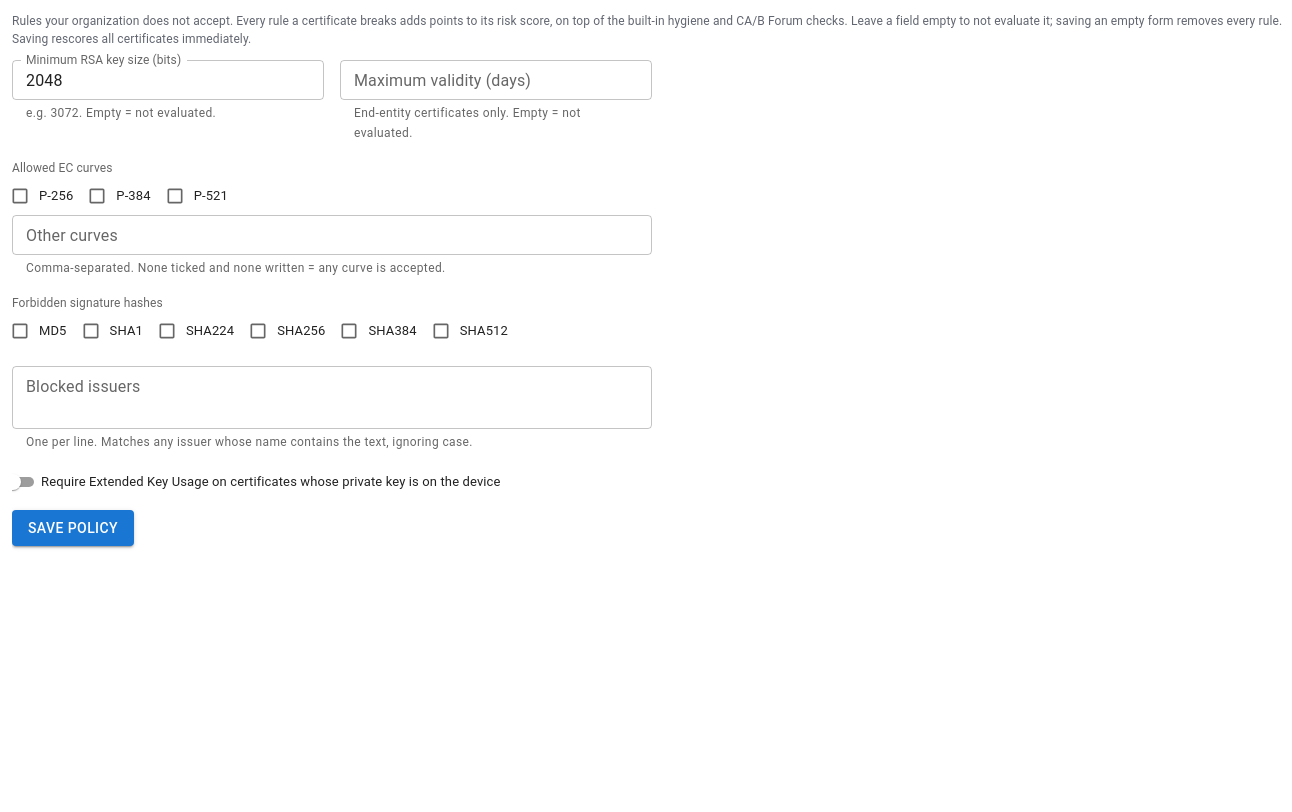
Test case: CdpCryptoPolicyEditor › ⭐ el formulario vacío se guarda como «sin reglas»: {}
Clear the field labelled "Minimum RSA key size (bits)". click: point(168, 80)
box: [12,60,324,100]
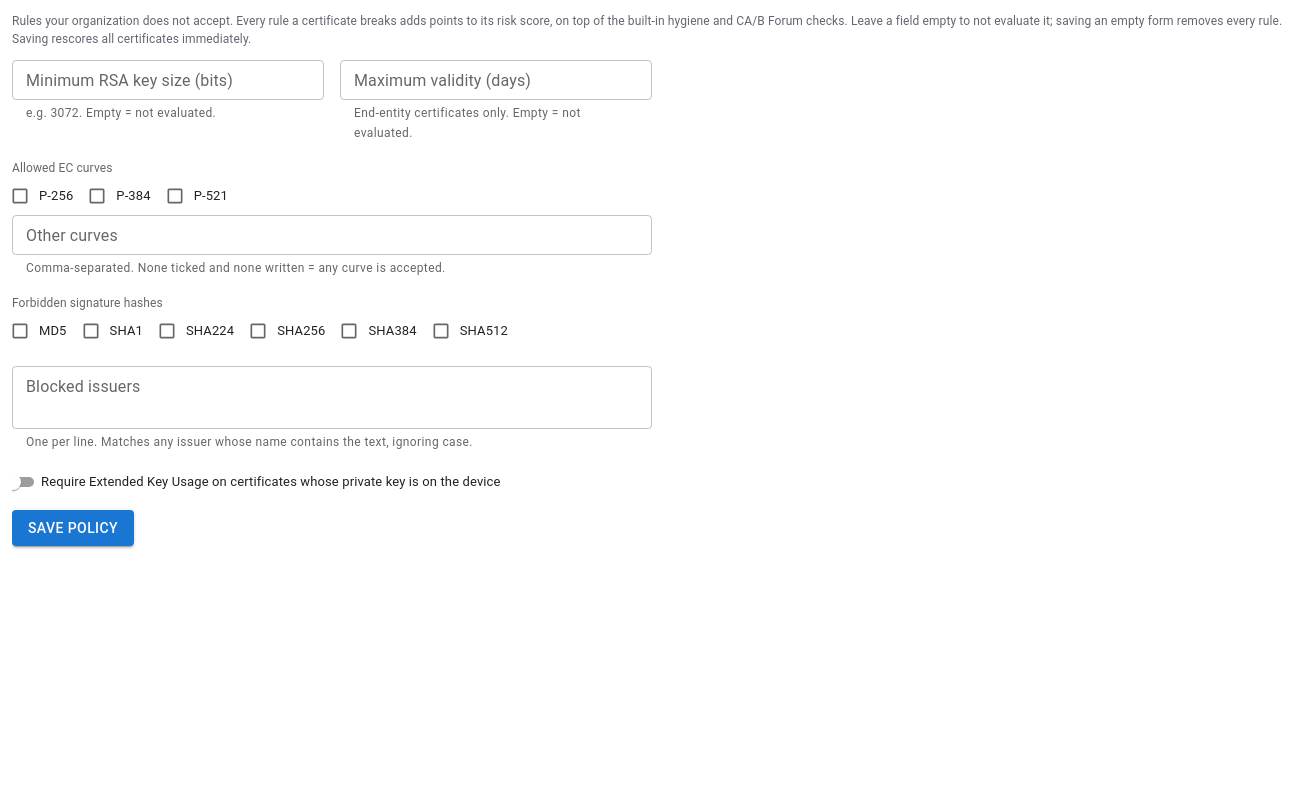
Click the button "Save policy". click: point(73, 528)
box: [12,510,134,546]
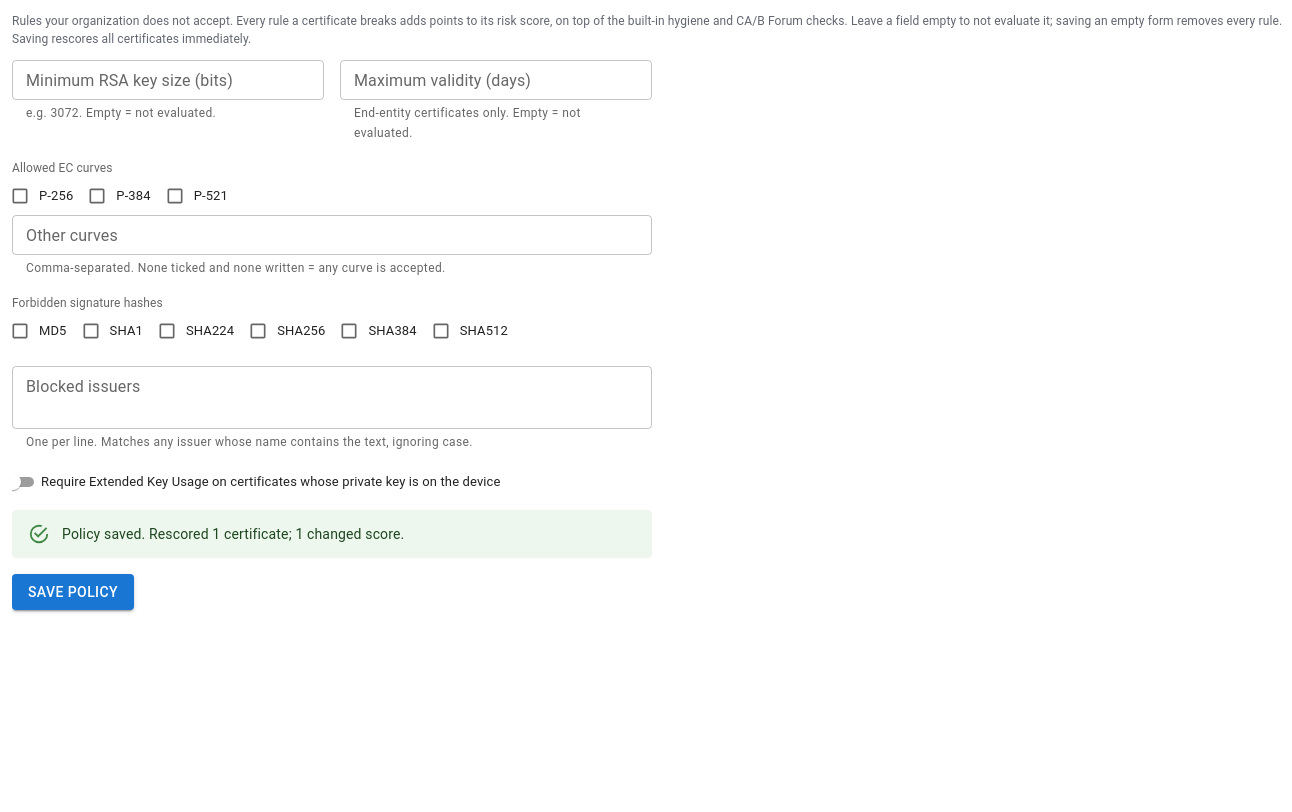
expect the text "Policy saved. Rescored 1 certificate; 1 changed score." is shown: met, box [62,526,404,542]
